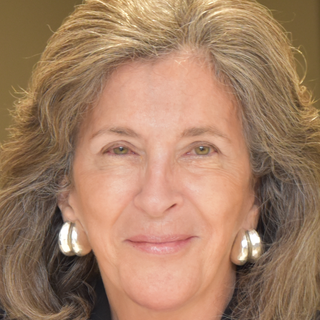eye: (95, 140, 144, 163), (177, 141, 224, 160)
